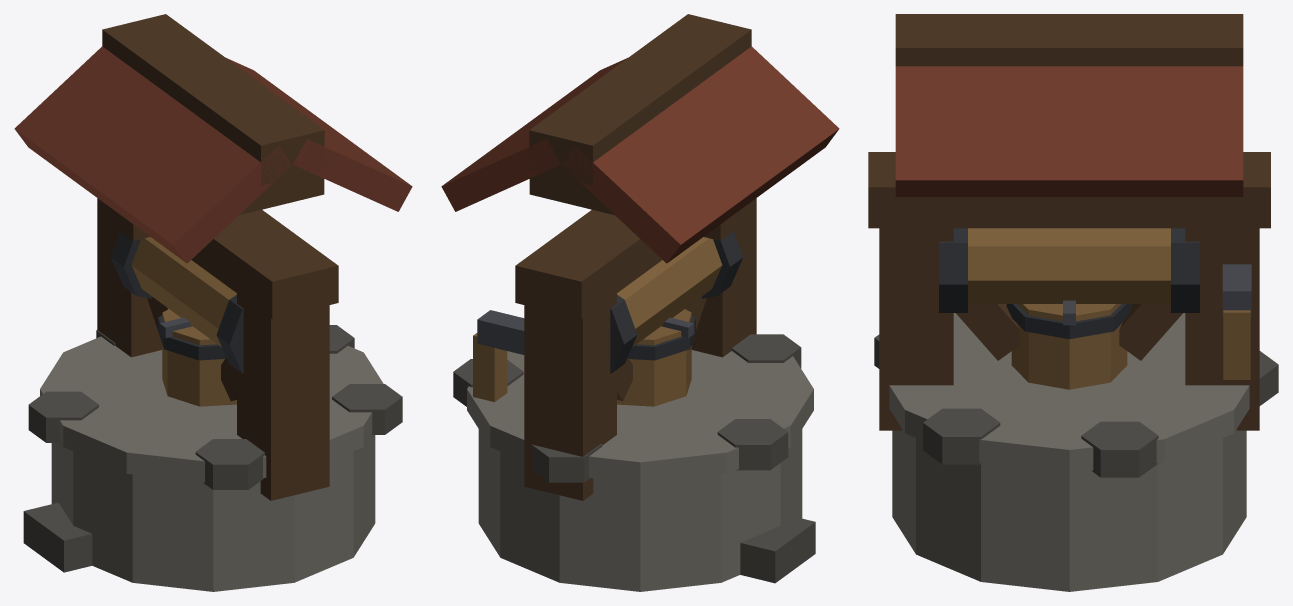
File: well.glb
3 renders of one model, left to right at view 1: azimuth 30°, elevation 25°; view 2: azimuth 150°, elevation 25°; view 3: azimuth 270°, elevation 25°, orthographic. The views are drawn at different scales.
Visible parts, largest first — view 1: stone, timber, roof_tile, stone_dark, timber_light, iron_dark; view 2: stone, timber, roof_tile, timber_light, stone_dark, iron_dark, iron; view 3: stone, timber, roof_tile, timber_light, stone_dark, iron_dark, iron.
Part boxes in pixels (x1=…): stone: x1=40, y1=336, x2=383, y2=591; timber: x1=97, y1=14, x2=338, y2=500; roof_tile: x1=14, y1=46, x2=412, y2=263; stone_dark: x1=23, y1=325, x2=402, y2=572; timber_light: x1=131, y1=237, x2=236, y2=406; iron_dark: x1=110, y1=231, x2=243, y2=373; stone: x1=467, y1=350, x2=813, y2=591; timber: x1=515, y1=14, x2=756, y2=500; roof_tile: x1=441, y1=46, x2=839, y2=263; timber_light: x1=473, y1=237, x2=722, y2=406; stone_dark: x1=453, y1=334, x2=815, y2=583; iron_dark: x1=610, y1=231, x2=743, y2=373; iron: x1=477, y1=310, x2=694, y2=354; stone: x1=889, y1=313, x2=1249, y2=591; timber: x1=868, y1=14, x2=1270, y2=430; roof_tile: x1=895, y1=66, x2=1243, y2=196; timber_light: x1=968, y1=228, x2=1250, y2=389; stone_dark: x1=874, y1=334, x2=1278, y2=477; iron_dark: x1=939, y1=228, x2=1199, y2=339; iron: x1=1063, y1=264, x2=1251, y2=325.
Bounding box in the file's own units: 24.96 × 33.3 × 25.5.
